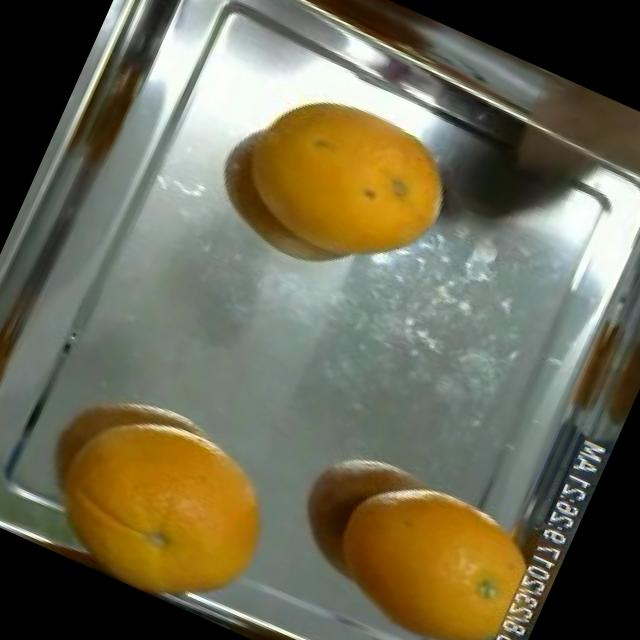Fruit: (285, 444, 562, 640)
